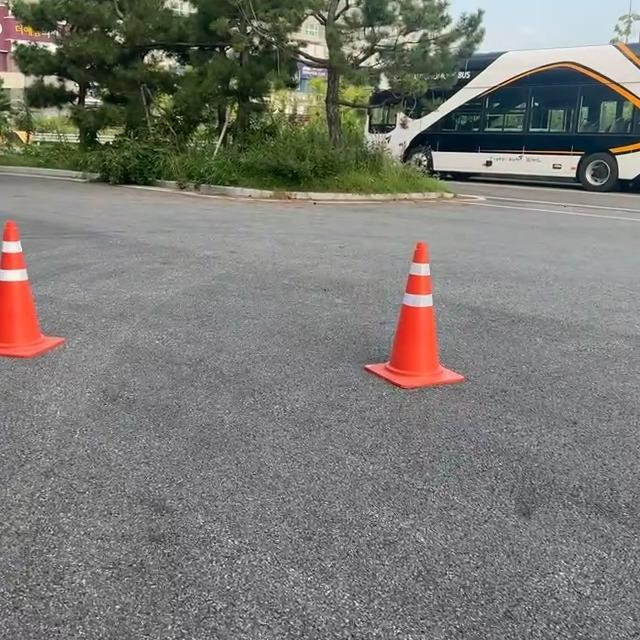fallen_object: (340, 222, 490, 435), (0, 198, 103, 381)
